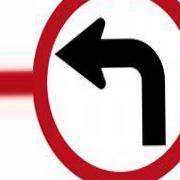left: (33, 1, 180, 180)
